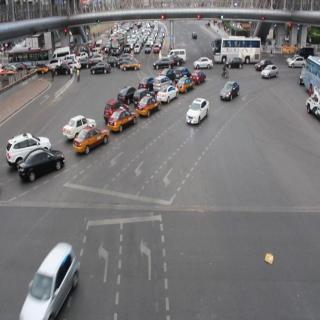BigCar: (212, 35, 260, 63)
Car: (14, 224, 76, 320), (20, 148, 65, 182), (7, 137, 54, 162), (74, 128, 109, 154), (109, 109, 139, 132), (187, 97, 209, 126), (63, 115, 95, 134), (137, 94, 161, 118), (221, 80, 240, 102), (286, 52, 305, 74), (158, 84, 178, 104), (118, 56, 143, 72), (262, 62, 279, 84), (190, 65, 206, 88), (116, 86, 137, 102), (177, 75, 193, 94), (90, 62, 110, 76), (154, 56, 171, 72), (194, 54, 213, 68)
